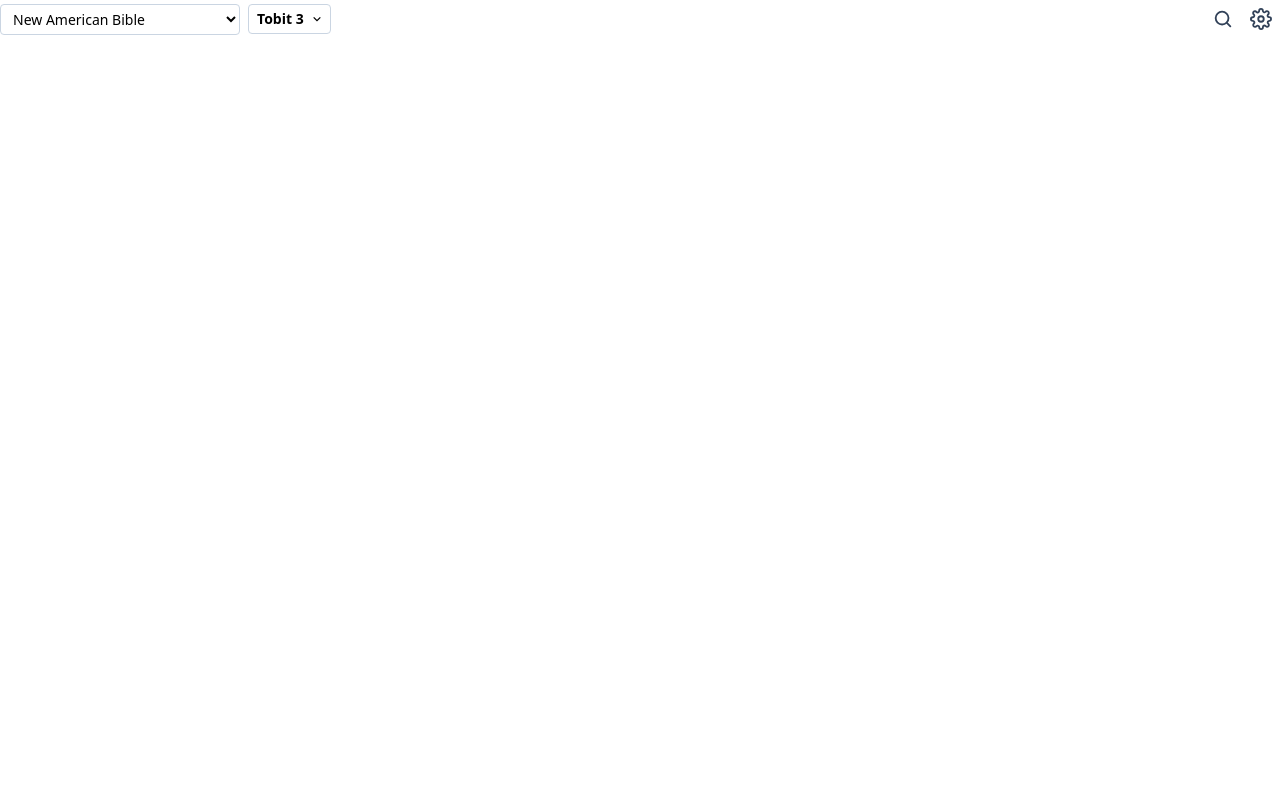
Scenario: ReaderBar › choosingAnEditionInThePopupComparesWithIt
Click the button named "Reading settings". click: click(1261, 19)
box: [1242,0,1279,38]
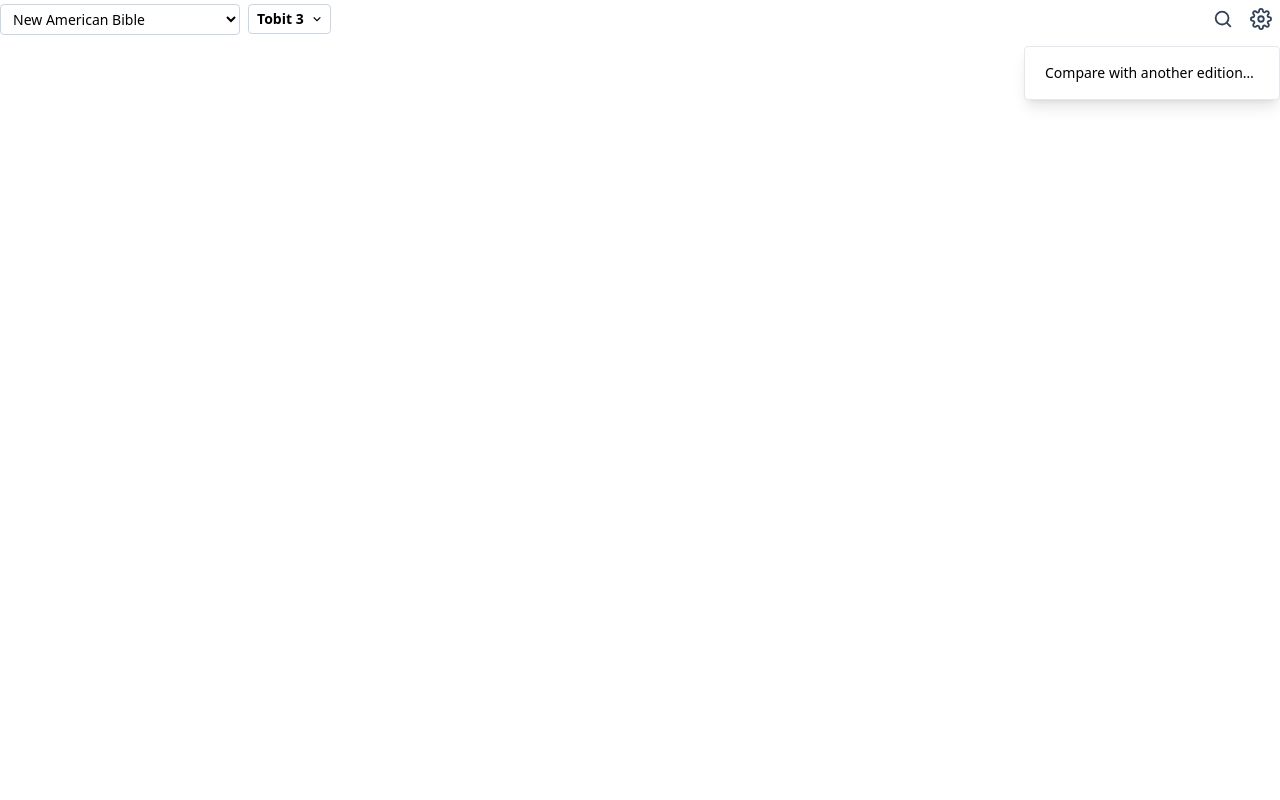
Click the button "Compare with another edition…". click: click(1152, 73)
box: [1033,55,1271,91]
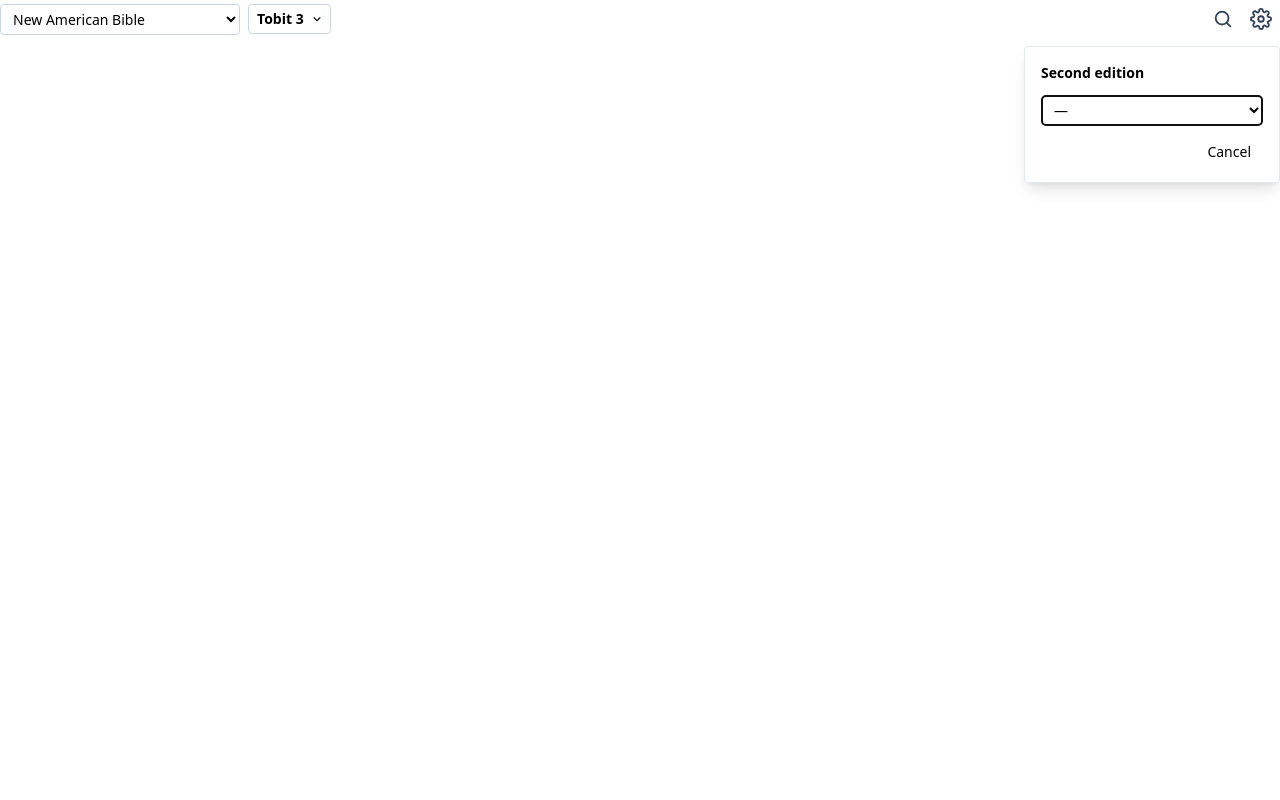
Now the dialog "Second edition" is shown, box [1033,55,1271,174]
Select "Conferenza Episcopale Italiana" in the dropdown labelled "Second edition". click: (1152, 110)
box: [1041,95,1263,126]
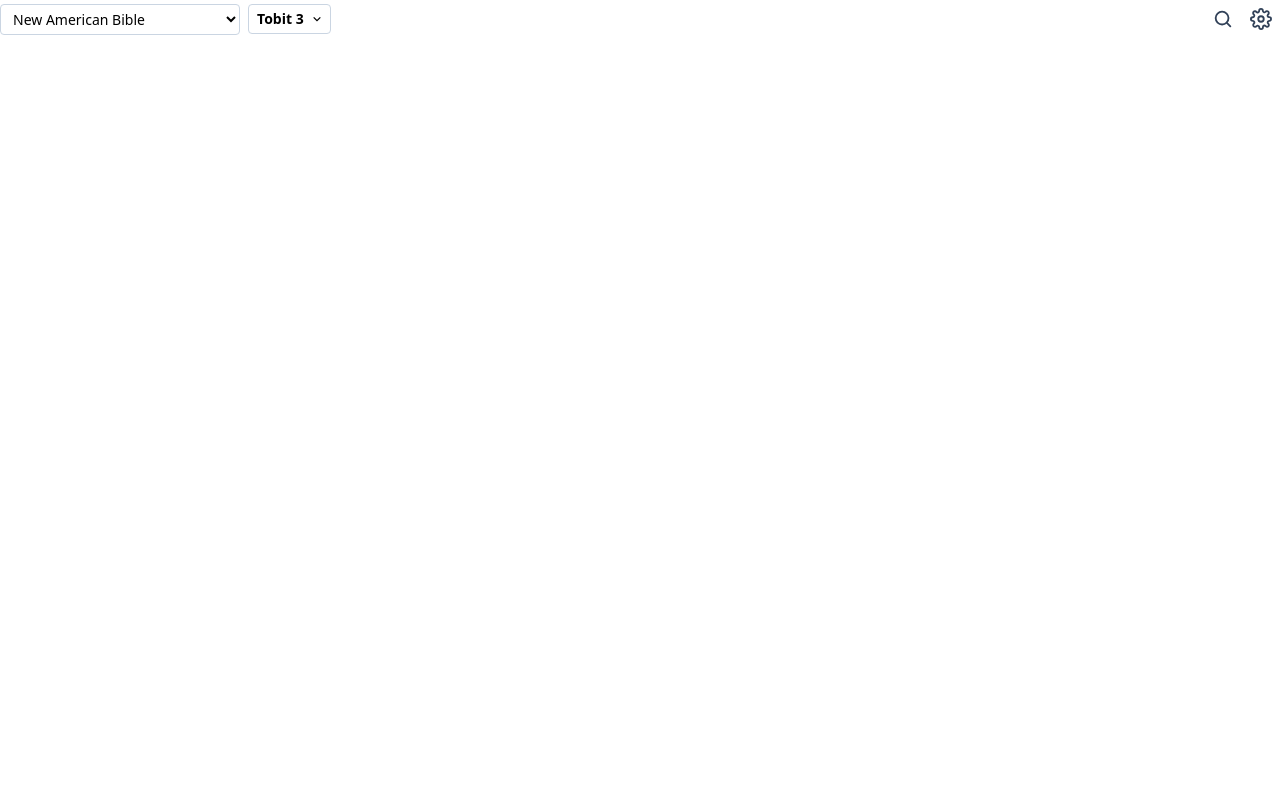
Now the dialog is gone
